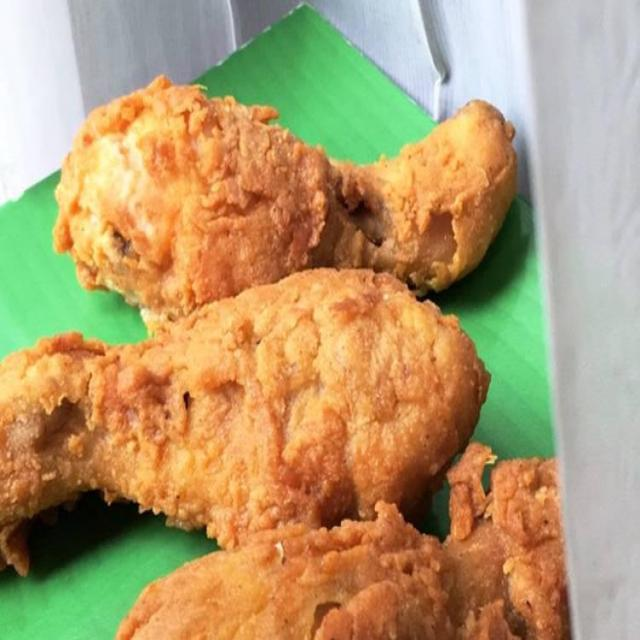Frango: (0, 265, 486, 545), (53, 58, 525, 310), (111, 440, 578, 640)
